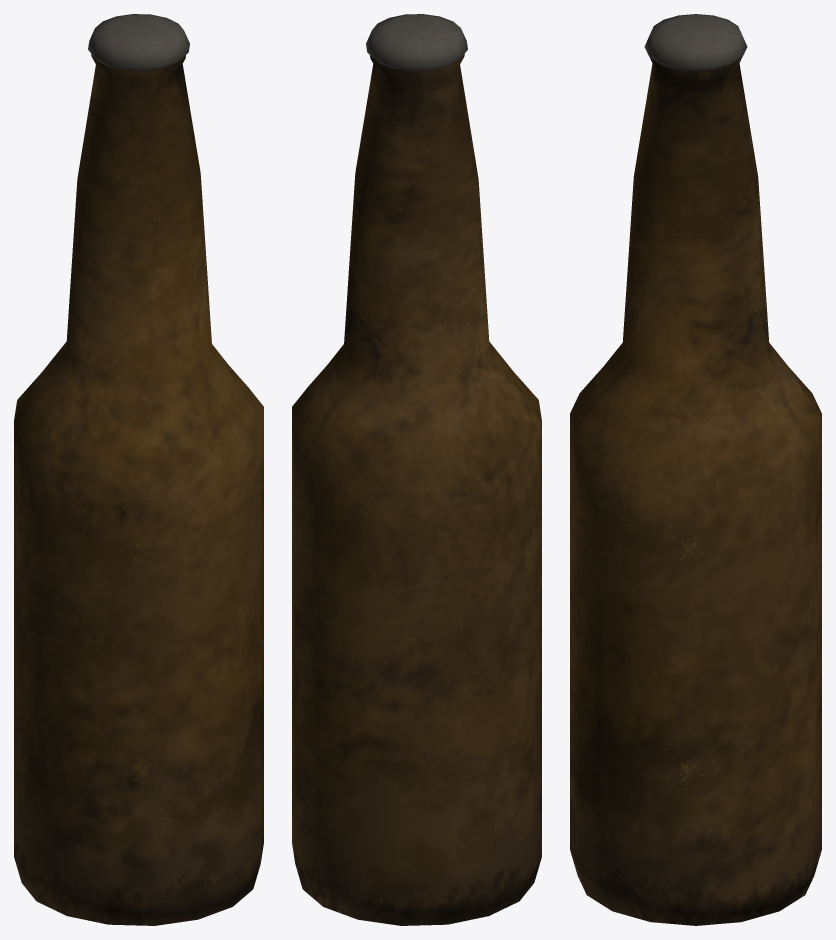
Rendered from bottle.gltf.
3 renders of one model, left to right at view 1: azimuth 30°, elevation 25°; view 2: azimuth 150°, elevation 25°; view 3: azimuth 270°, elevation 25°, orthographic.
Parts seen in each view (by area): view 1: beer.001; view 2: beer.001; view 3: beer.001.
Part boxes in pixels (x1=…): beer.001: x1=14, y1=14, x2=263, y2=925; beer.001: x1=292, y1=14, x2=541, y2=925; beer.001: x1=570, y1=14, x2=821, y2=925.
Bounding box in the file's own units: 0.619 × 2.3 × 0.619.
2 materials, 2 textured.
